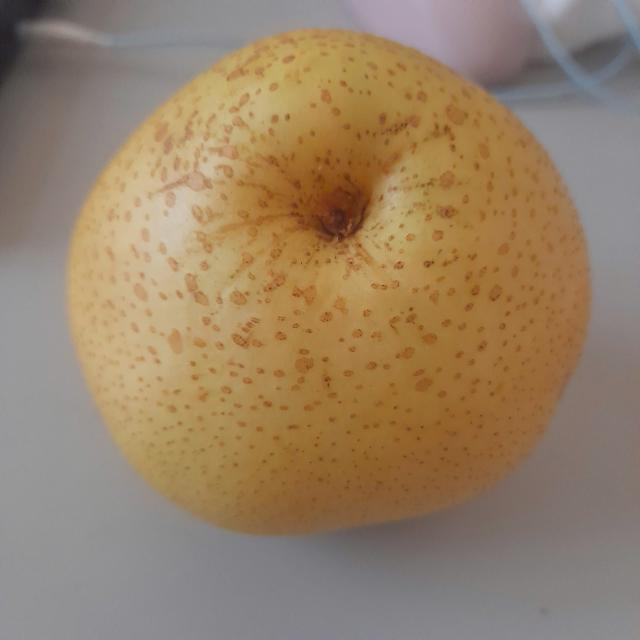Le: (62, 29, 598, 559)
